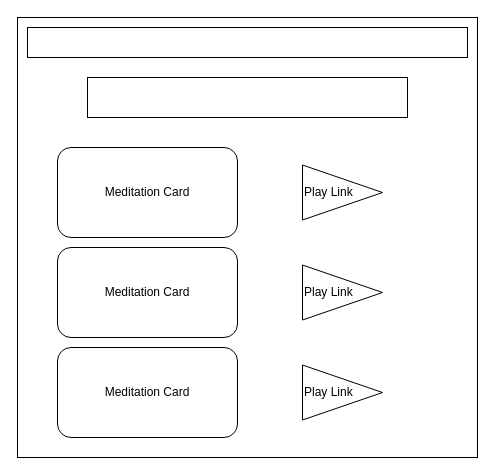
Image size: 495x475. Some labels were removed from this diagram. Each missing label, with the box of its shape:
MEDITATIONS: (86, 76, 408, 118)
NAVBAR: (26, 26, 468, 58)
